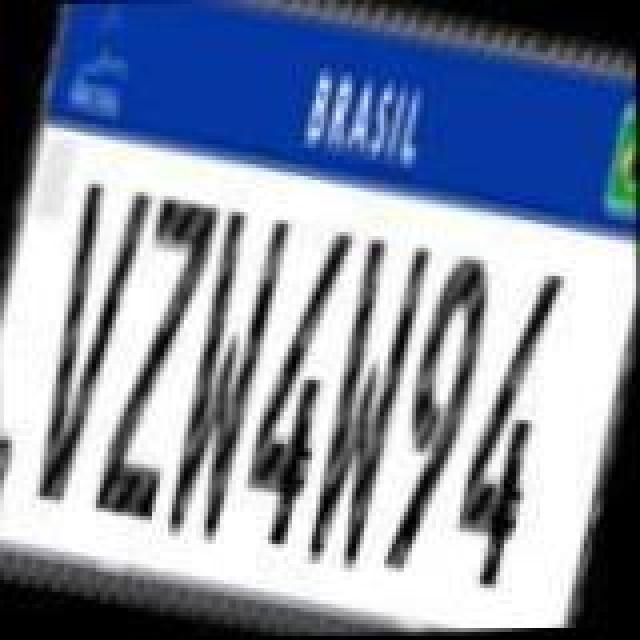4: (440, 256, 584, 604), (226, 218, 366, 558)
9: (370, 246, 510, 586)
V: (14, 176, 158, 516)
W: (148, 204, 296, 548), (296, 230, 440, 578)
Z: (88, 190, 228, 530)
